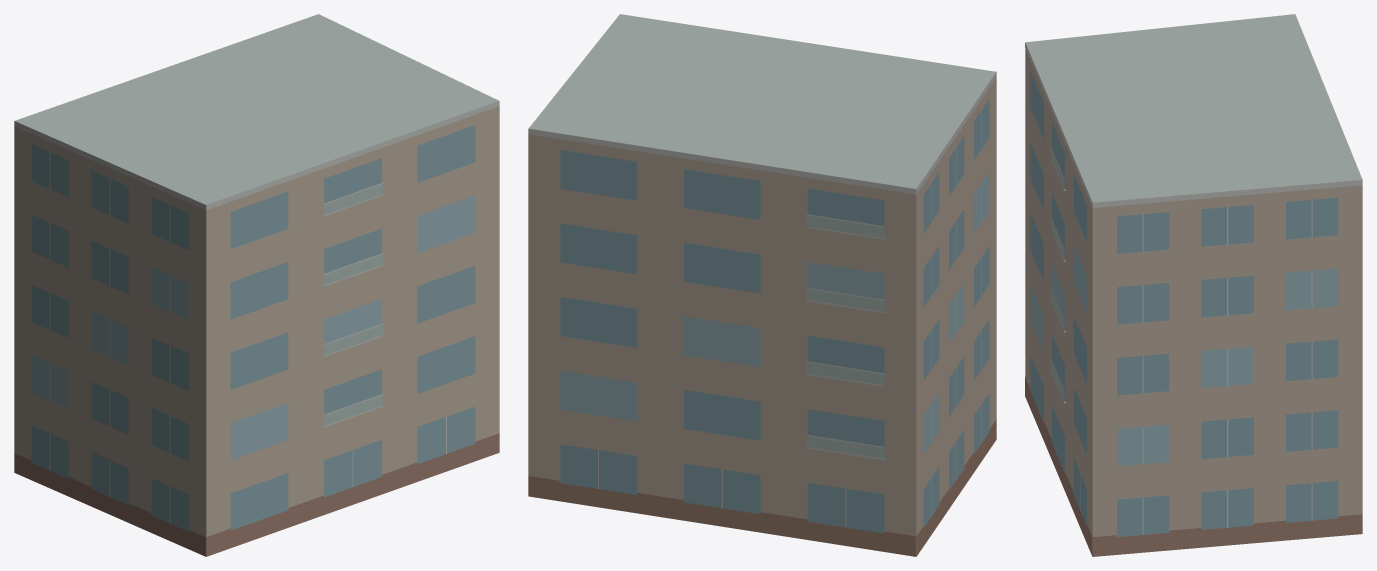
The model's file is survey-upis-32737407.glb.
3 renders of one model, left to right at view 1: azimuth 30°, elevation 25°; view 2: azimuth 150°, elevation 25°; view 3: azimuth 270°, elevation 25°, orthographic. The views are drawn at different scales.
Visible parts, largest first — view 1: survey-upis-32737407.tmp; view 2: survey-upis-32737407.tmp; view 3: survey-upis-32737407.tmp.
Boxes of the visible parts, left/top/right/bottom form: survey-upis-32737407.tmp: left=14, top=14, right=499, bottom=556; survey-upis-32737407.tmp: left=528, top=14, right=996, bottom=556; survey-upis-32737407.tmp: left=1025, top=14, right=1362, bottom=556.
Size of the model in its own units: 18.53 by 16.2 by 14.
